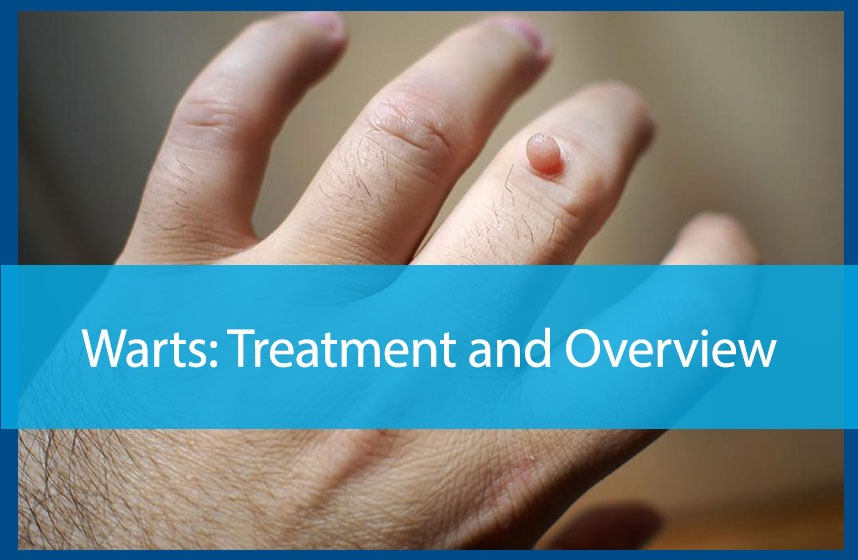Warts: (517, 125, 576, 197)
